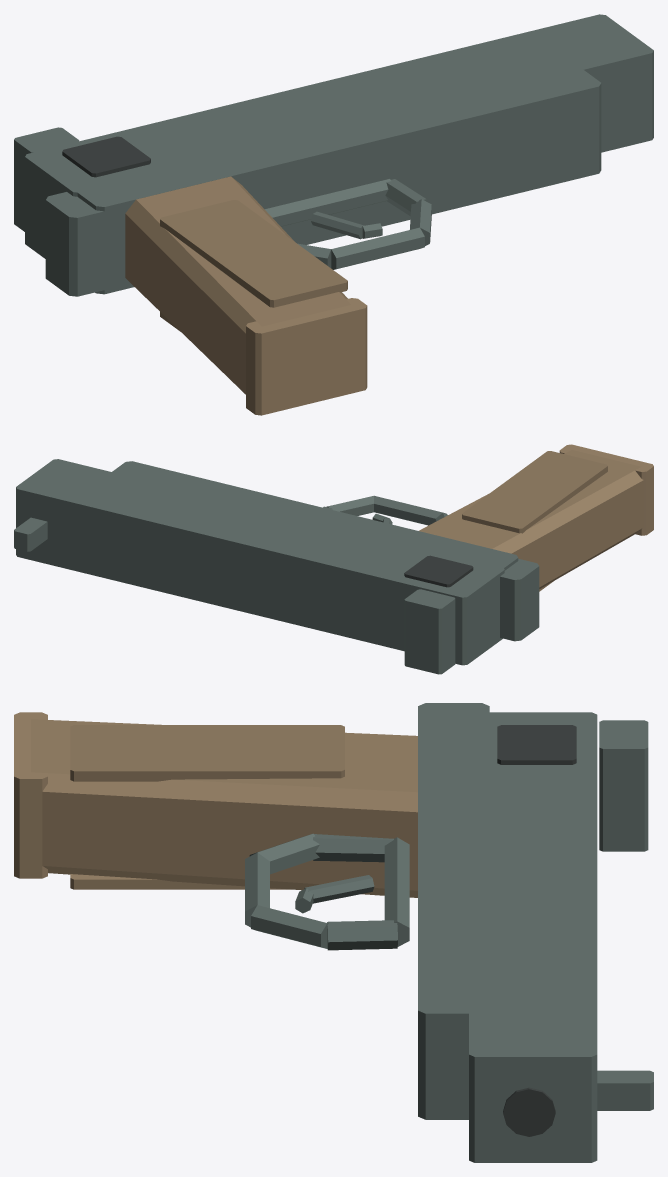
The model's file is weapon-m1911.glb.
3 views of the same model, one above another, from view 1: azimuth 30°, elevation 25°; view 2: azimuth 150°, elevation 25°; view 3: azimuth 270°, elevation 25° (orthographic). The views are drawn at different scales.
Visible parts, largest first — view 1: weapon-m1911/lower-frame, weapon-m1911/flat-slide, weapon-m1911/eight-sided-grip, weapon-m1911/eight-sided-grip-heel, weapon-m1911/independent-grip-panels-left, weapon-m1911/external-backstrap-tail, weapon-m1911/hollow-trigger-guard-1, weapon-m1911/slide-rear-serrations-left, weapon-m1911/hollow-trigger-guard-4, weapon-m1911/rear-sight, weapon-m1911/hollow-trigger-guard-trigger-1, weapon-m1911/hollow-trigger-guard-2 (+1 smaller); view 2: weapon-m1911/flat-slide, weapon-m1911/lower-frame, weapon-m1911/eight-sided-grip, weapon-m1911/independent-grip-panels-left, weapon-m1911/rear-sight, weapon-m1911/external-backstrap-tail, weapon-m1911/eight-sided-grip-heel, weapon-m1911/slide-rear-serrations-left, weapon-m1911/hollow-trigger-guard-4, weapon-m1911/front-sight, weapon-m1911/hollow-trigger-guard-3; view 3: weapon-m1911/flat-slide, weapon-m1911/eight-sided-grip, weapon-m1911/lower-frame, weapon-m1911/independent-grip-panels-left, weapon-m1911/rear-sight, weapon-m1911/eight-sided-grip-heel, weapon-m1911/slide-rear-serrations-left, weapon-m1911/hollow-trigger-guard-1, weapon-m1911/front-sight, weapon-m1911/hollow-trigger-guard-2, weapon-m1911/muzzle-dark-disc, weapon-m1911/hollow-trigger-guard-3 (+6 smaller).
Part boxes in pixels (x1,y1,x2,y2): weapon-m1911/lower-frame: (64,58,601,294); weapon-m1911/flat-slide: (25,14,653,258); weapon-m1911/eight-sided-grip: (125,176,350,394); weapon-m1911/eight-sided-grip-heel: (246,298,367,415); weapon-m1911/independent-grip-panels-left: (160,200,347,307); weapon-m1911/external-backstrap-tail: (45,192,131,296); weapon-m1911/hollow-trigger-guard-1: (265,179,390,226); weapon-m1911/slide-rear-serrations-left: (62,136,150,177); weapon-m1911/hollow-trigger-guard-4: (331,227,424,269); weapon-m1911/rear-sight: (14,127,79,231); weapon-m1911/hollow-trigger-guard-trigger-1: (311,211,363,239); weapon-m1911/hollow-trigger-guard-2: (385,179,428,216); weapon-m1911/flat-slide: (16,459,504,665); weapon-m1911/lower-frame: (100,461,518,576); weapon-m1911/eight-sided-grip: (419,450,643,588); weapon-m1911/independent-grip-panels-left: (462,451,607,533); weapon-m1911/rear-sight: (404,589,455,674); weapon-m1911/external-backstrap-tail: (500,558,539,641); weapon-m1911/eight-sided-grip-heel: (559,444,653,535); weapon-m1911/slide-rear-serrations-left: (404,555,473,587); weapon-m1911/hollow-trigger-guard-4: (374,495,446,525); weapon-m1911/front-sight: (14,517,47,551); weapon-m1911/hollow-trigger-guard-3: (326,496,373,515); weapon-m1911/flat-slide: (469,712,597,1162); weapon-m1911/eight-sided-grip: (31,719,417,897); weapon-m1911/lower-frame: (418,714,512,1119); weapon-m1911/independent-grip-panels-left: (70,725,344,781); weapon-m1911/rear-sight: (599,720,648,851); weapon-m1911/eight-sided-grip-heel: (14,712,47,878); weapon-m1911/slide-rear-serrations-left: (497,725,576,764); weapon-m1911/hollow-trigger-guard-1: (384,837,409,946); weapon-m1911/front-sight: (597,1070,653,1110); weapon-m1911/hollow-trigger-guard-2: (327,920,397,950); weapon-m1911/muzzle-dark-disc: (503,1087,555,1136); weapon-m1911/hollow-trigger-guard-3: (251,905,328,948).
Bounding box in the file's own units: 0.227 × 0.0346 × 0.1695.
Materials: 3 (3 with a texture image).
